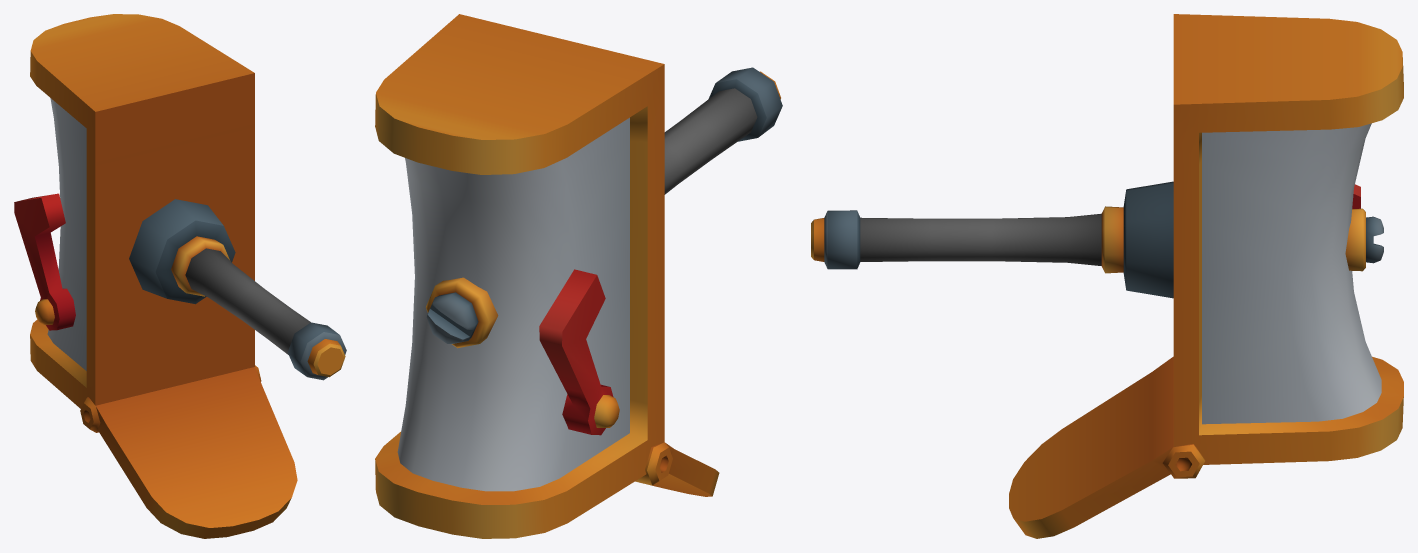
Rendered from Melee_YouGotMail.fbx.
The picture shows the model from 3 angles, left to right: view 1: azimuth 30°, elevation 25°; view 2: azimuth 150°, elevation 25°; view 3: azimuth 270°, elevation 25°; orthographic projection. The views are drawn at different scales.
Visible parts, largest first — view 1: Melee_YouGotMail; view 2: Melee_YouGotMail; view 3: Melee_YouGotMail.
Boxes of the visible parts, bbox=[...] form: Melee_YouGotMail: bbox=[14, 14, 346, 538]; Melee_YouGotMail: bbox=[375, 14, 782, 538]; Melee_YouGotMail: bbox=[811, 14, 1403, 538].
Bounding box in the file's own units: 0.3961 × 0.8619 × 1.01.
